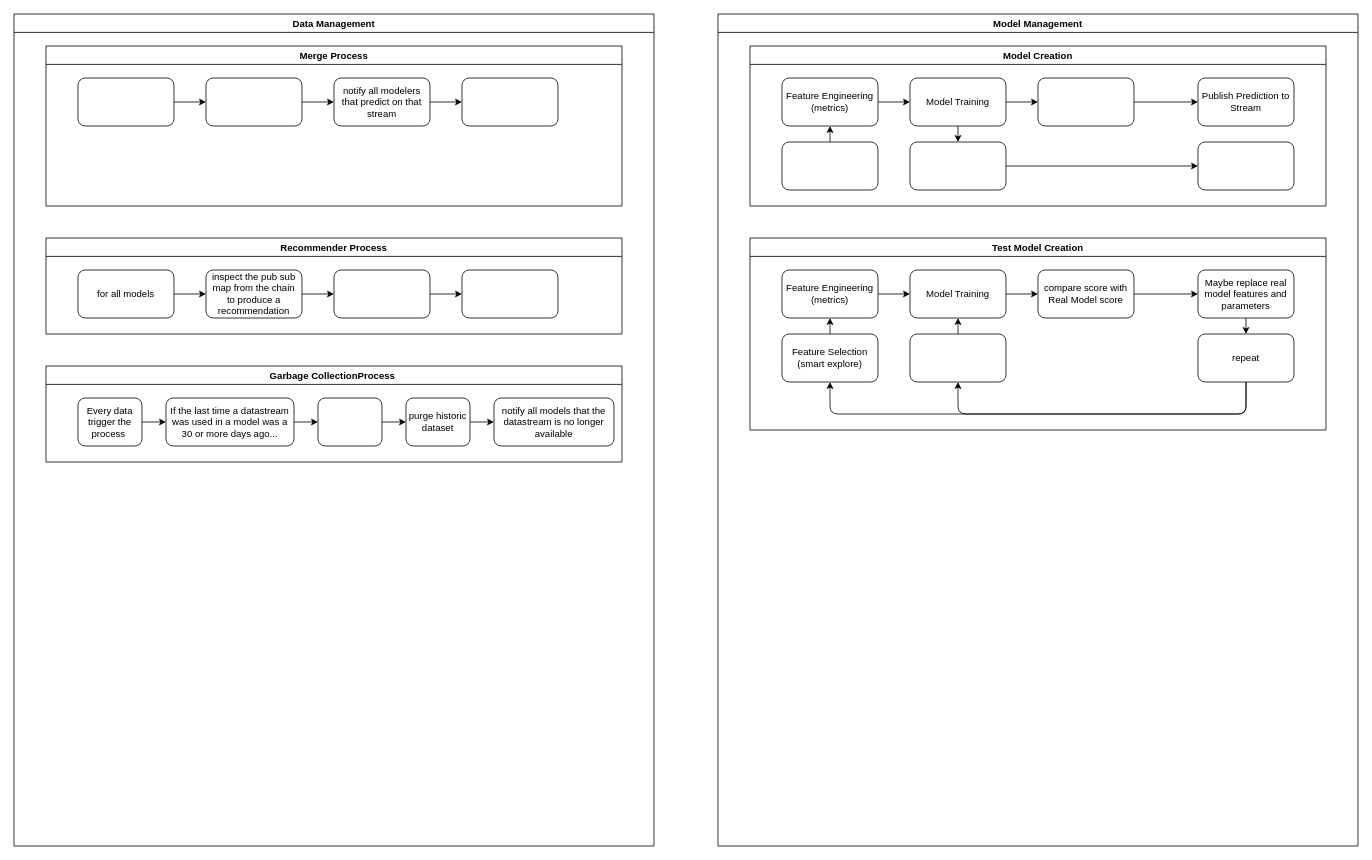
This 1372x860 diagram has some shape labels left out. Each missing label, with the centre of its shape:
"append to historic memory of stream" belongs at point 253,101.
"await new data then repeat" belongs at point 1245,165.
"data comes in on a stream" belongs at point 125,101.
"Feature Selection (Whatever is chosen)" belongs at point 829,165.
"get the historic data, and subscribe to datastream" belongs at point 381,293.
"Hyperparameter Tuning" belongs at point 957,357.
"notify all modelers that a new dataset is available" belongs at point 509,293.
"notify all modelers that use that stream to predict another" belongs at point 509,101.
"Predict" belongs at point 1085,101.
"Remember Score (accuracy / confidence)" belongs at point 957,165.
"unsubscribe from the datastream" belongs at point 349,421.
